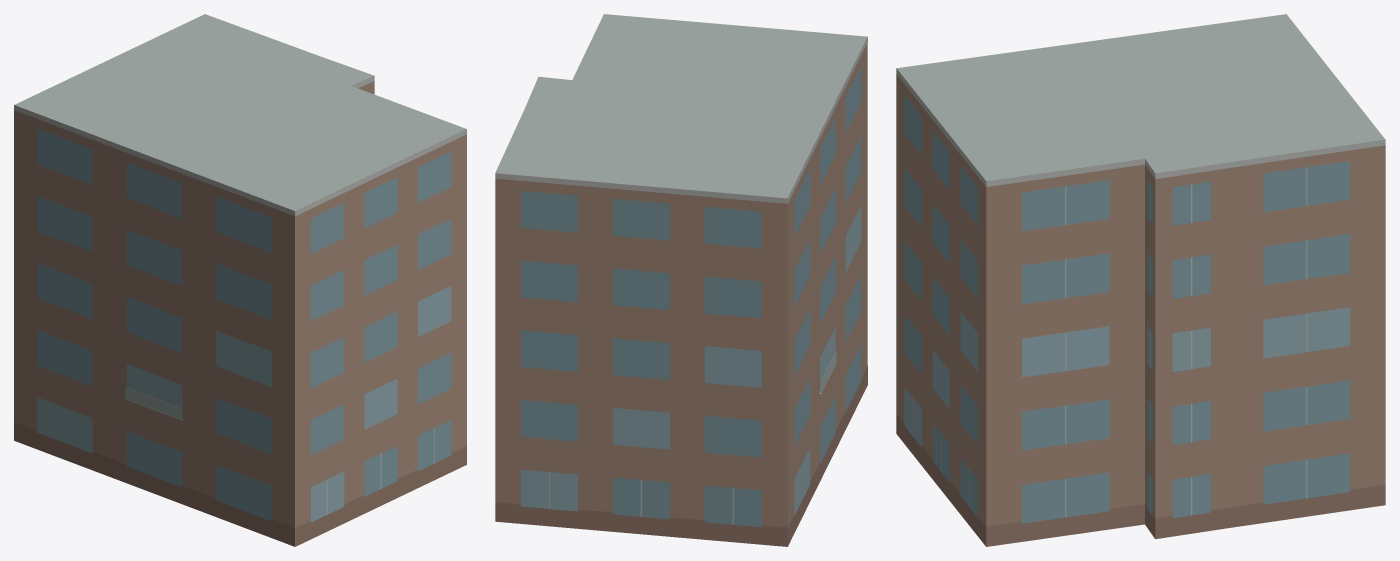
Rendered from survey-upis-32765390.glb.
3 views of the same model, side by side, from view 1: azimuth 30°, elevation 25°; view 2: azimuth 150°, elevation 25°; view 3: azimuth 270°, elevation 25° (orthographic). The views are drawn at different scales.
Parts seen in each view (by area): view 1: survey-upis-32765390.tmp; view 2: survey-upis-32765390.tmp; view 3: survey-upis-32765390.tmp.
Boxes of the visible parts, box(x1,y1,x2,y2) form: survey-upis-32765390.tmp: box(14, 14, 466, 546); survey-upis-32765390.tmp: box(495, 14, 867, 546); survey-upis-32765390.tmp: box(896, 14, 1385, 546).
Bounding box in the file's own units: 15.42 × 15.7 × 19.05.
